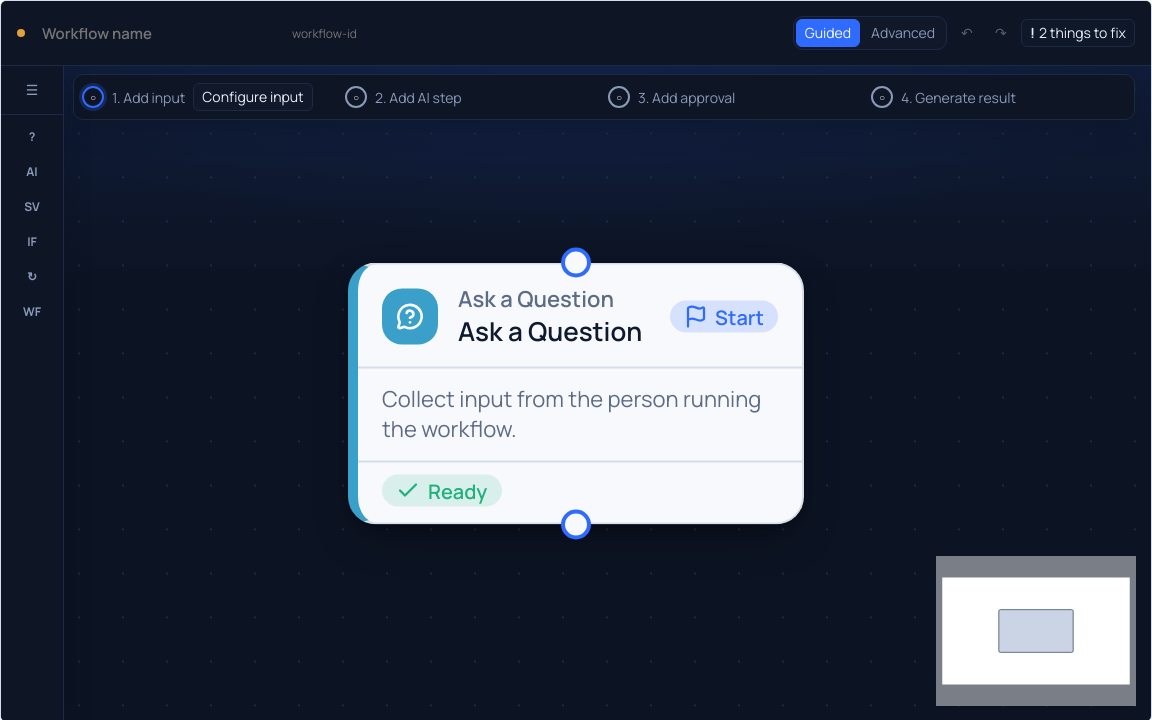
Test: ValidationPill popover occlusion fix › still closes on an outside click even though the popover now lives outside the anchor subtree
This screenshot has width=1152, height=720.
Click the button with class "wf-validation-pill" at (1078, 33), box [1021,19,1135,47]
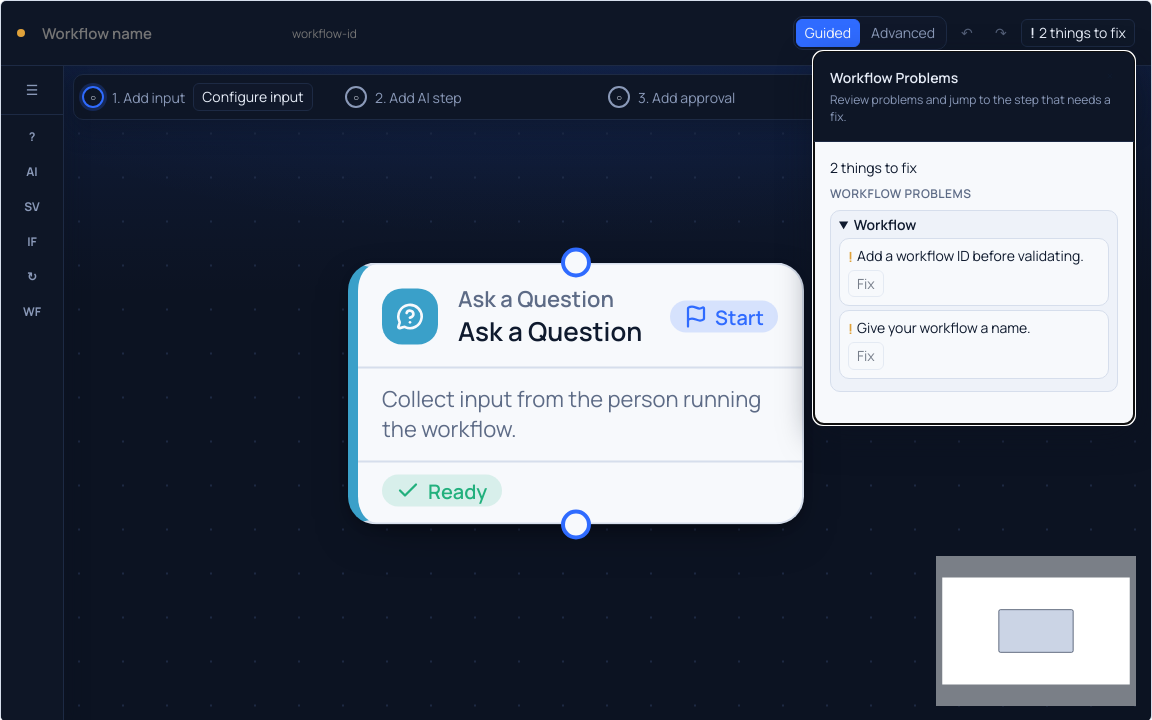
Check: the dialog "Workflow Problems" is shown, box [813,51,1135,425]
Click the element named "Mini Map" at (576, 360), box [0,0,1151,719]
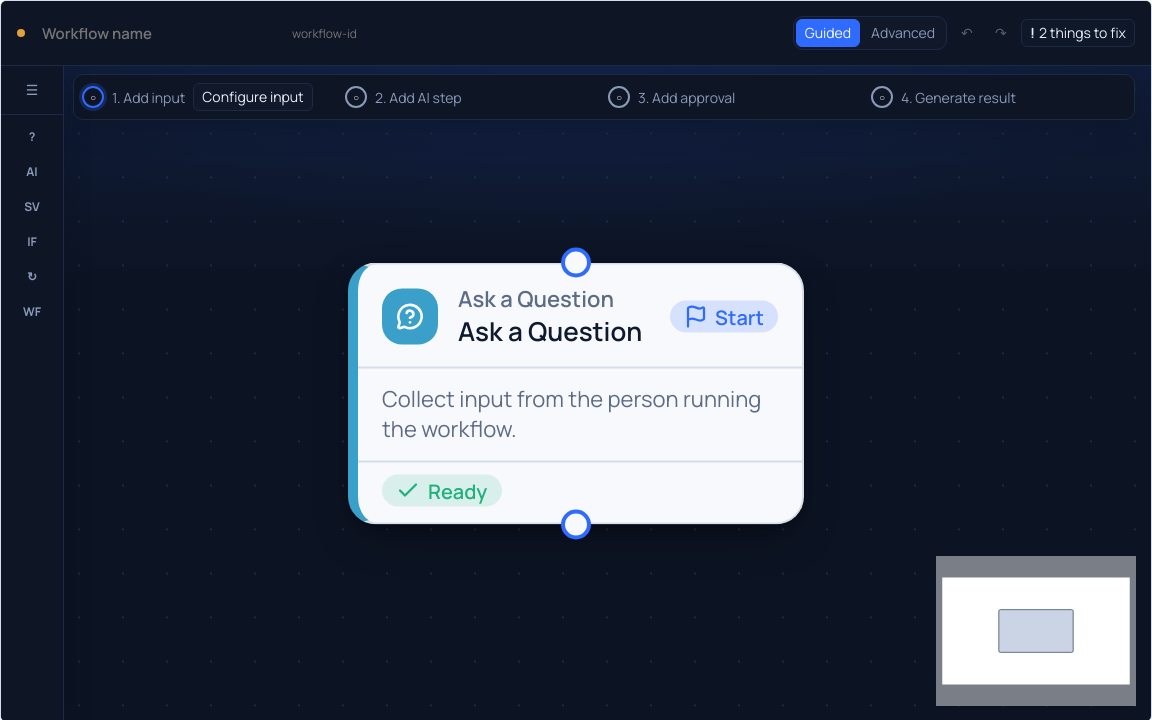
Check: the heading "Workflow Problems" is gone
